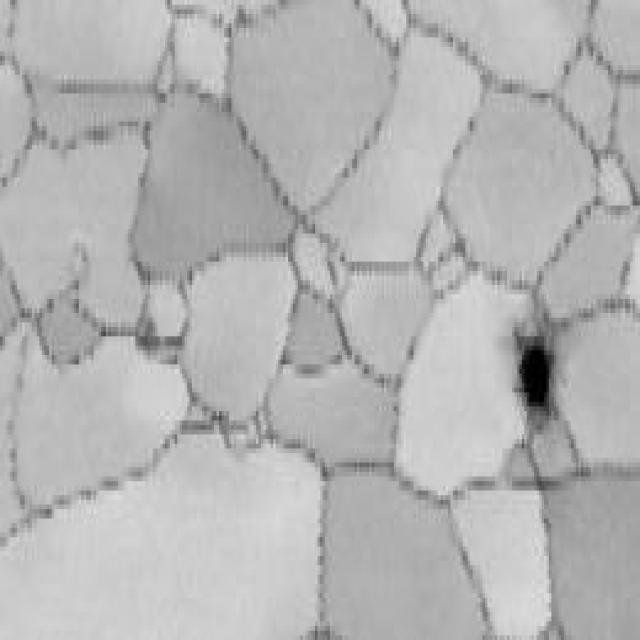good_void: (508, 309, 561, 429)
